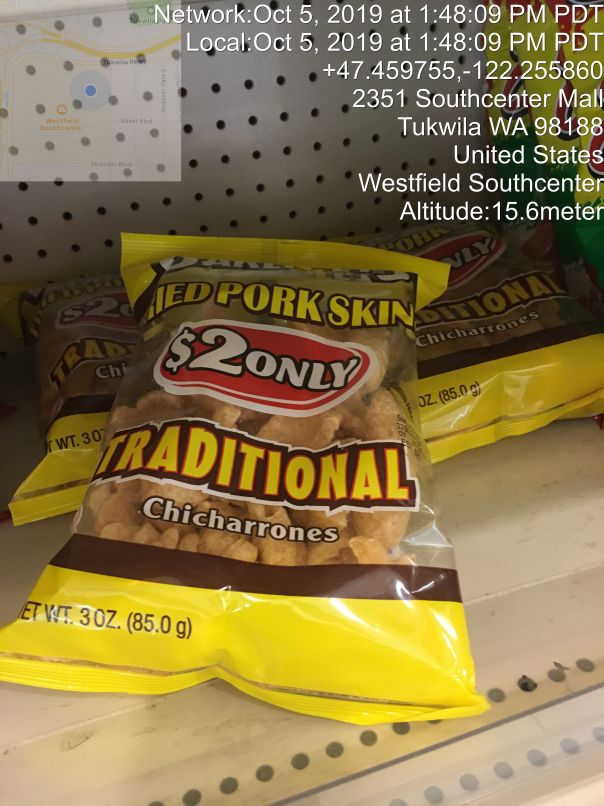Location: (347, 79, 604, 198)
Pork Skin: (5, 204, 516, 752)
Time: (151, 2, 604, 58)
